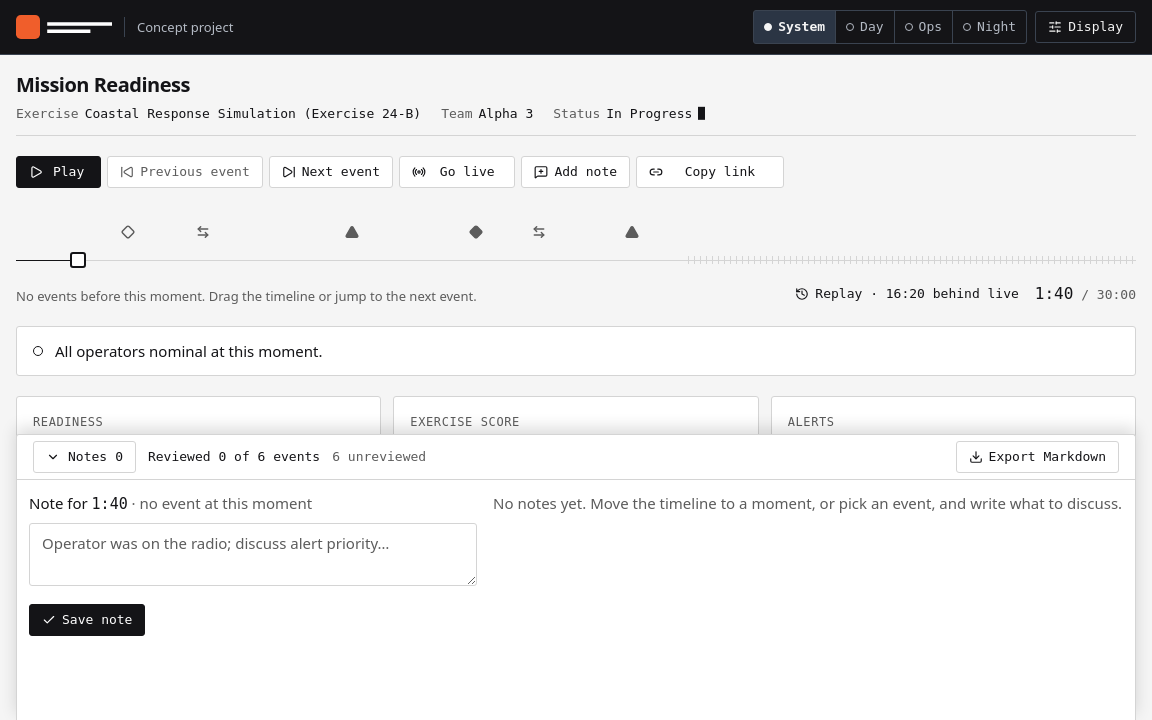
Test: composer › saves a moment note, confirms in place, clears the box, and keeps focus on Save
Type "Watch lead was on the radio" into the text box named "Note" at (253, 555), box x1=29 y1=524 x2=477 y2=586
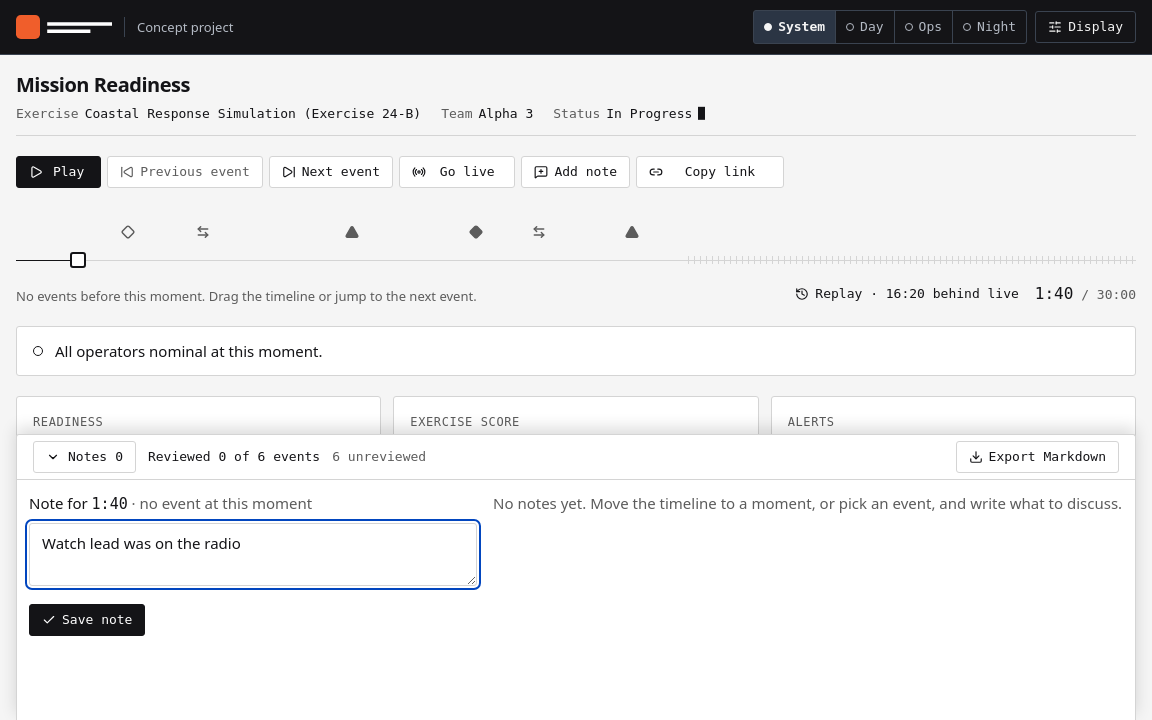
Click the button "Save note" at (87, 620), box x1=29 y1=604 x2=146 y2=636
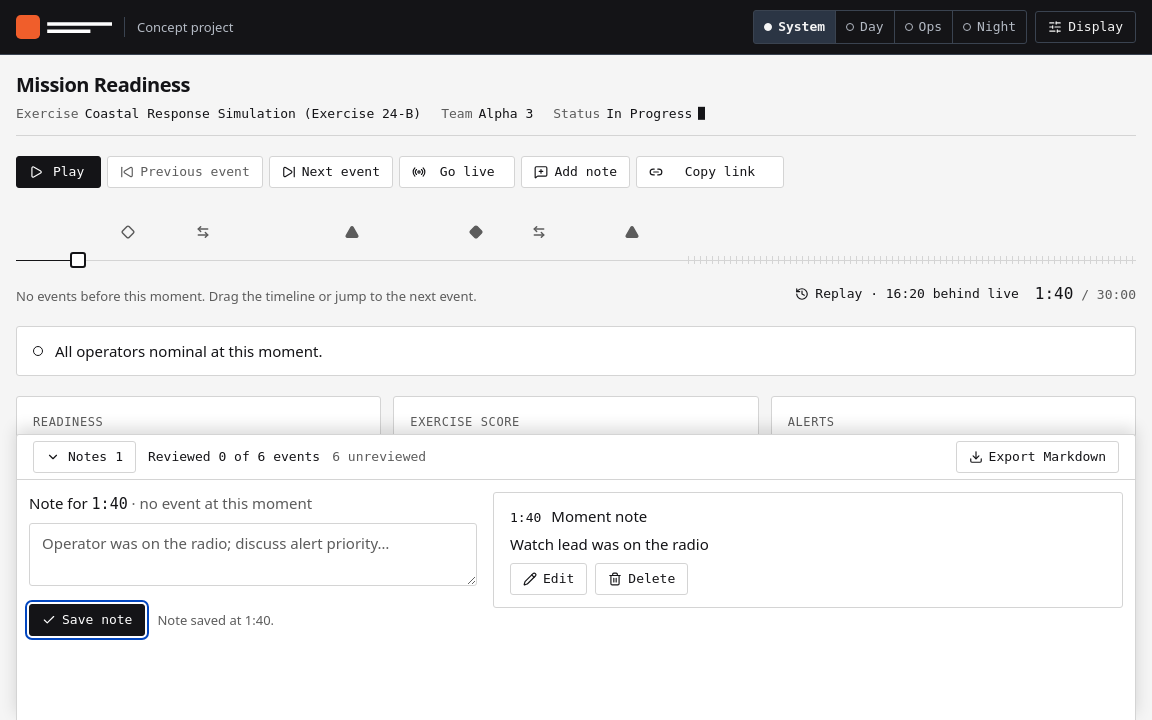
Now the text "Watch lead was on the radio" is shown, box x1=510 y1=534 x2=709 y2=554
Now the text "Moment note" is shown, box x1=551 y1=505 x2=647 y2=528
Now the text "Note saved at 1:40." is shown, box x1=158 y1=611 x2=274 y2=629
